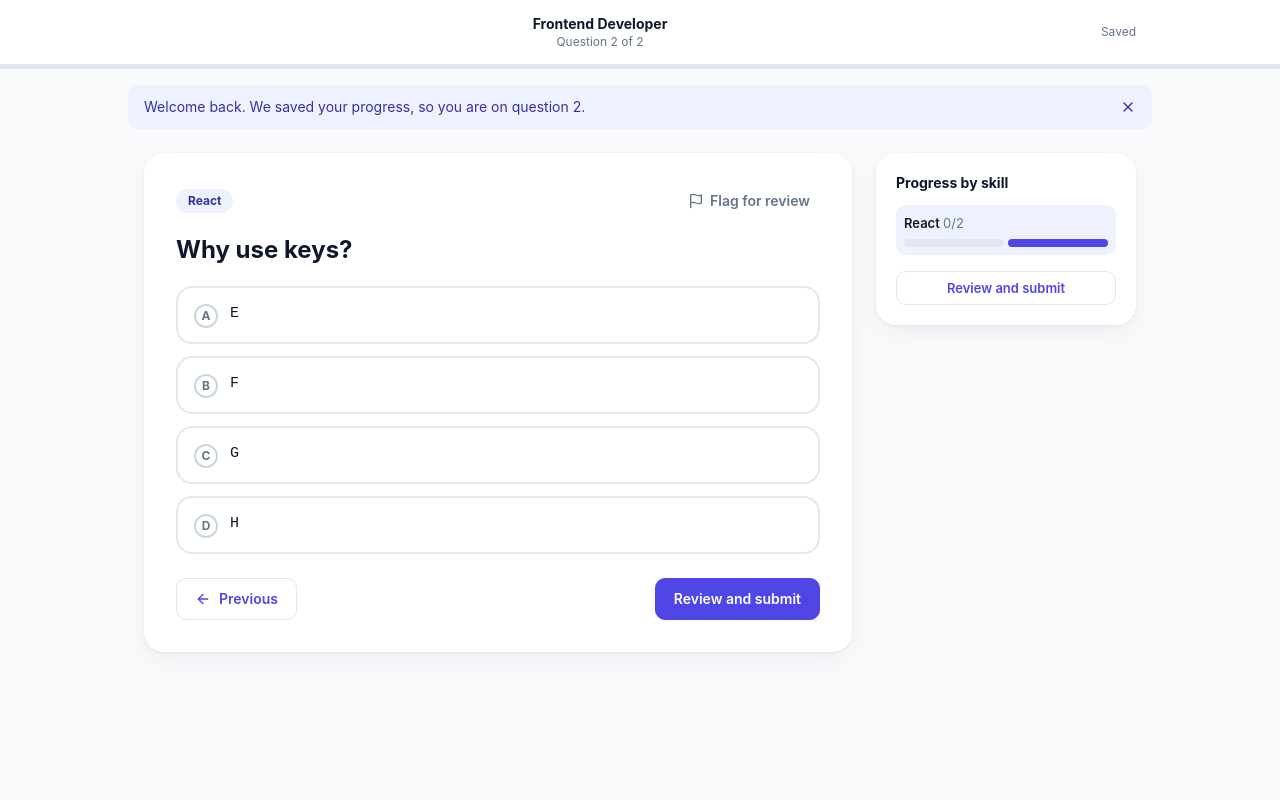
TestRunner › shows a retry state when submission fails and does not navigate
Check: the text "Welcome back" is shown, box [144,98,573,115]
Click the 2nd button "Review and submit" at (737, 599), box [655,578,820,620]
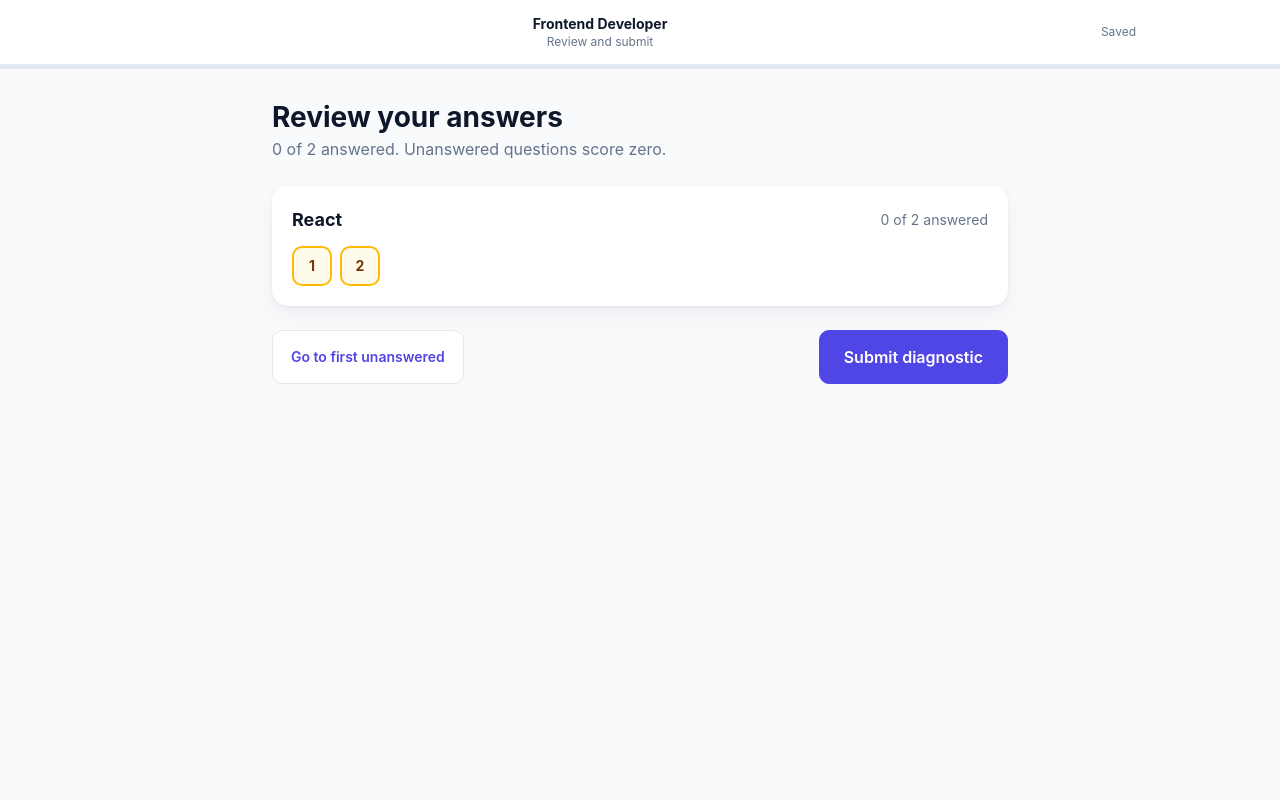
Click the button "Submit diagnostic" at (913, 357), box [819,330,1008,384]
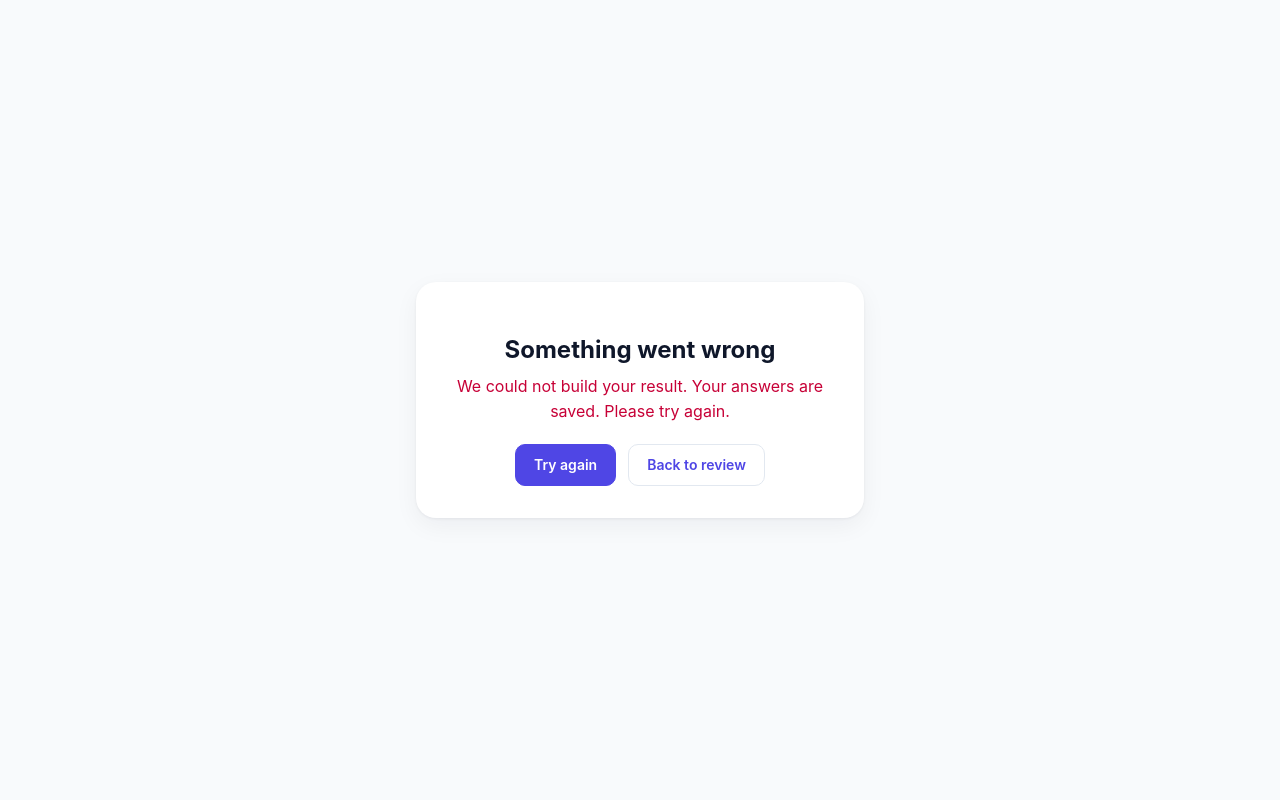
Check: the text "We could not build your result" is shown, box [457,376,823,421]
Check: the button "Try again" is shown, box [515,444,616,486]
